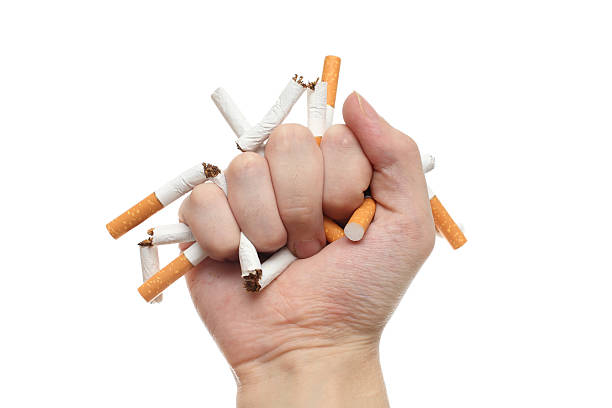cigarette: (107, 161, 210, 240), (233, 73, 306, 154), (138, 244, 210, 301), (426, 182, 469, 254), (242, 246, 297, 293), (208, 82, 253, 138), (136, 238, 165, 304), (342, 194, 376, 244), (321, 48, 343, 124), (307, 76, 329, 144), (142, 222, 200, 247), (237, 231, 263, 282), (205, 163, 230, 195), (321, 214, 344, 242), (418, 153, 436, 174)
